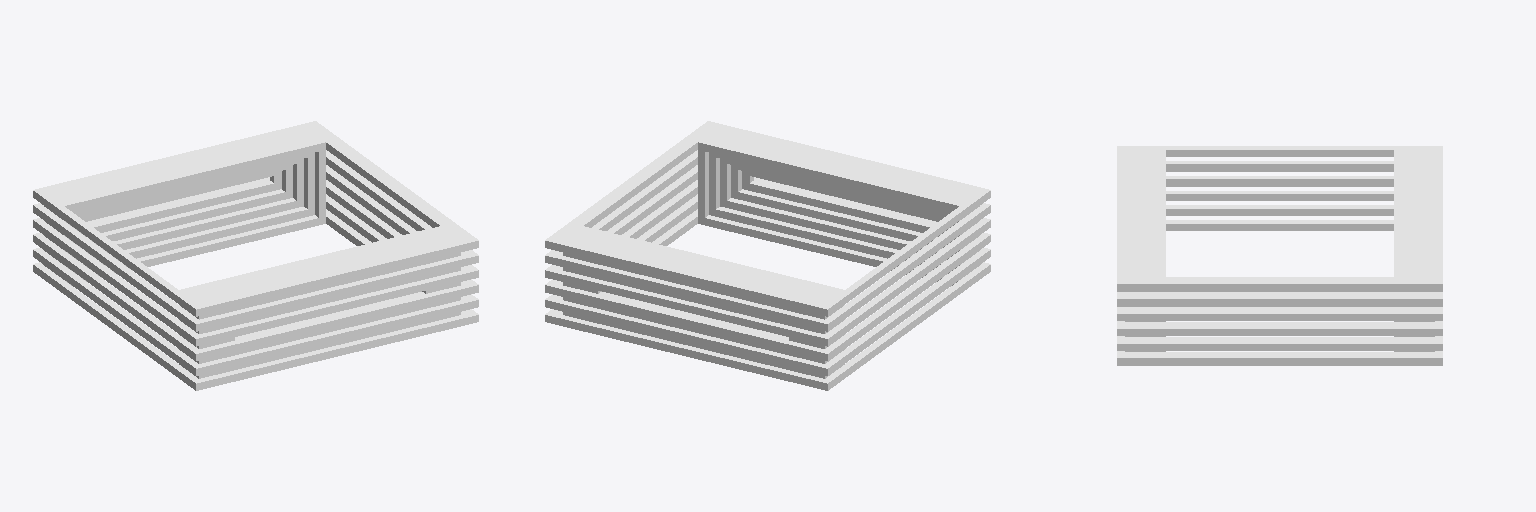
File: poweruprotatingmiddle.obj
3 views of the same model, side by side, from view 1: azimuth 30°, elevation 25°; view 2: azimuth 150°, elevation 25°; view 3: azimuth 270°, elevation 25° (orthographic).
Visible parts, largest first — view 1: object 1; view 2: object 1; view 3: object 1.
Boxes of the visible parts, x1,y1,x2,y2 form: object 1: [33, 121, 478, 390]; object 1: [545, 121, 990, 390]; object 1: [1117, 146, 1442, 365].
Bounding box in the file's own units: 4 × 1.1 × 4.